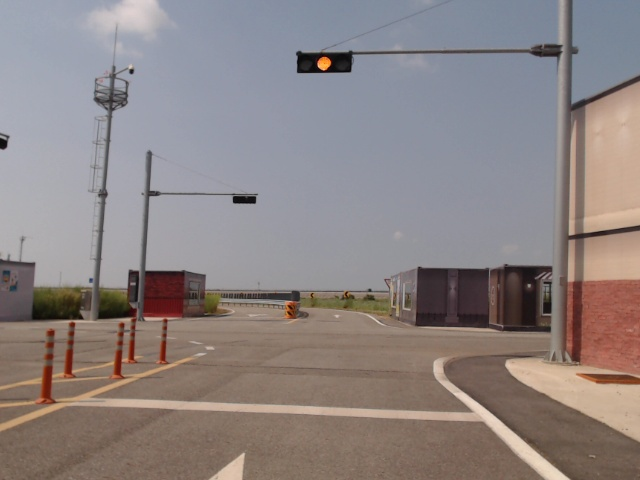orange_3: (298, 51, 352, 75)
